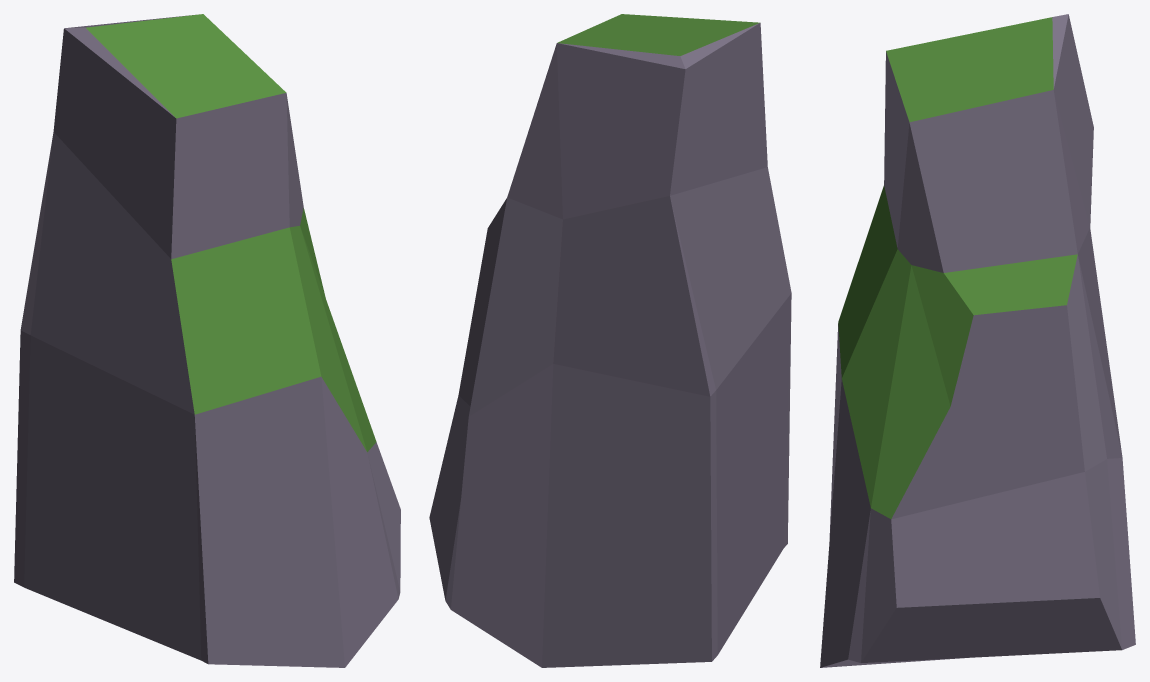
File: Rock_Moss_1.glb
3 views of the same model, side by side, from view 1: azimuth 30°, elevation 25°; view 2: azimuth 150°, elevation 25°; view 3: azimuth 270°, elevation 25° (orthographic). The views are drawn at different scales.
Parts seen in each view (by area): view 1: Rock_Moss_1_Cube.019; view 2: Rock_Moss_1_Cube.019; view 3: Rock_Moss_1_Cube.019.
Boxes of the visible parts, x1,y1,x2,y2 form: Rock_Moss_1_Cube.019: (14, 14, 400, 667); Rock_Moss_1_Cube.019: (429, 14, 791, 667); Rock_Moss_1_Cube.019: (820, 14, 1135, 667).
Bounding box in the file's own units: 0.4853 × 0.95 × 0.4667.
